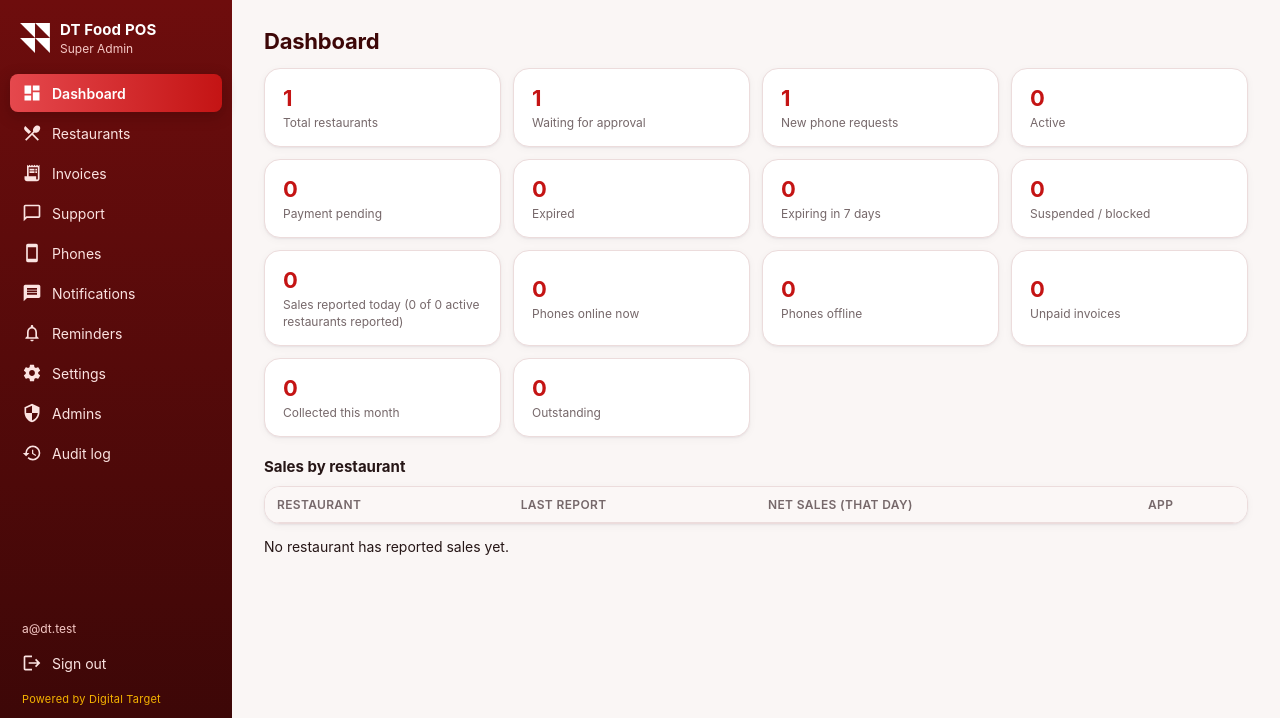
Scenario: panel › requires a message to suspend
Click the button "Restaurants" at (116,133), box 10,114 -> 222,152
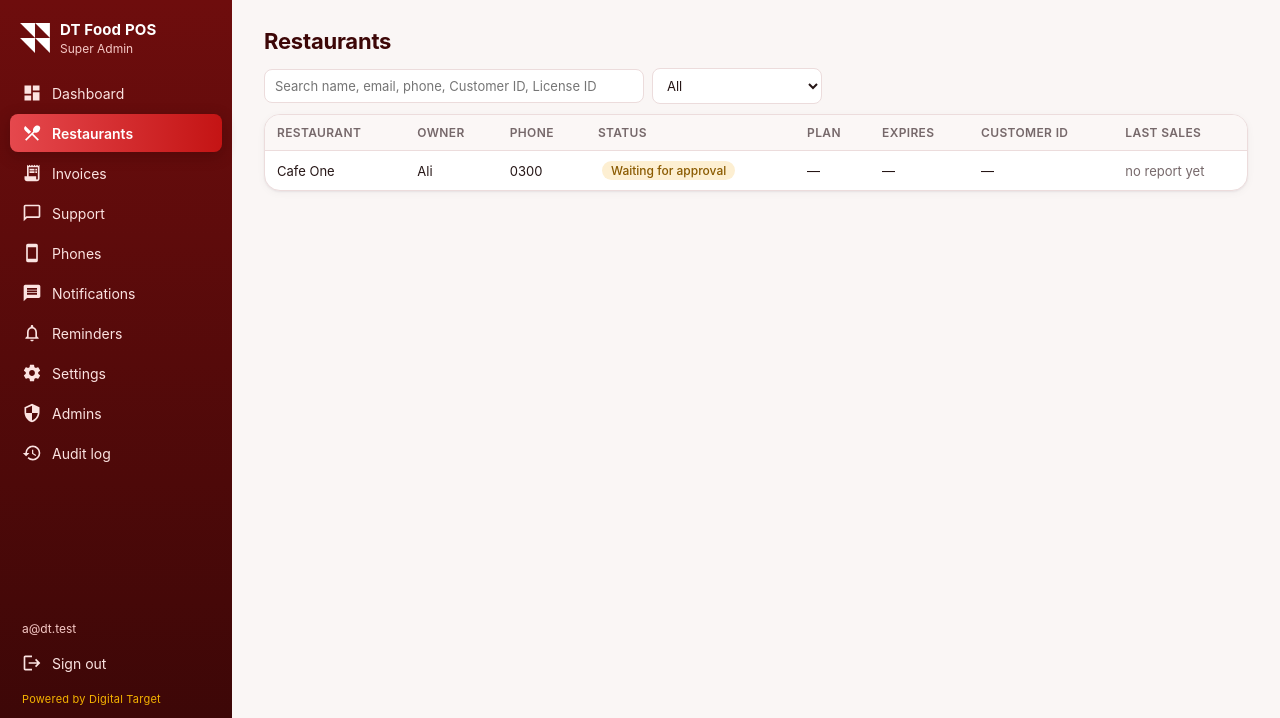
Click the text "Cafe One" at (335,170), box 265,151 -> 405,190
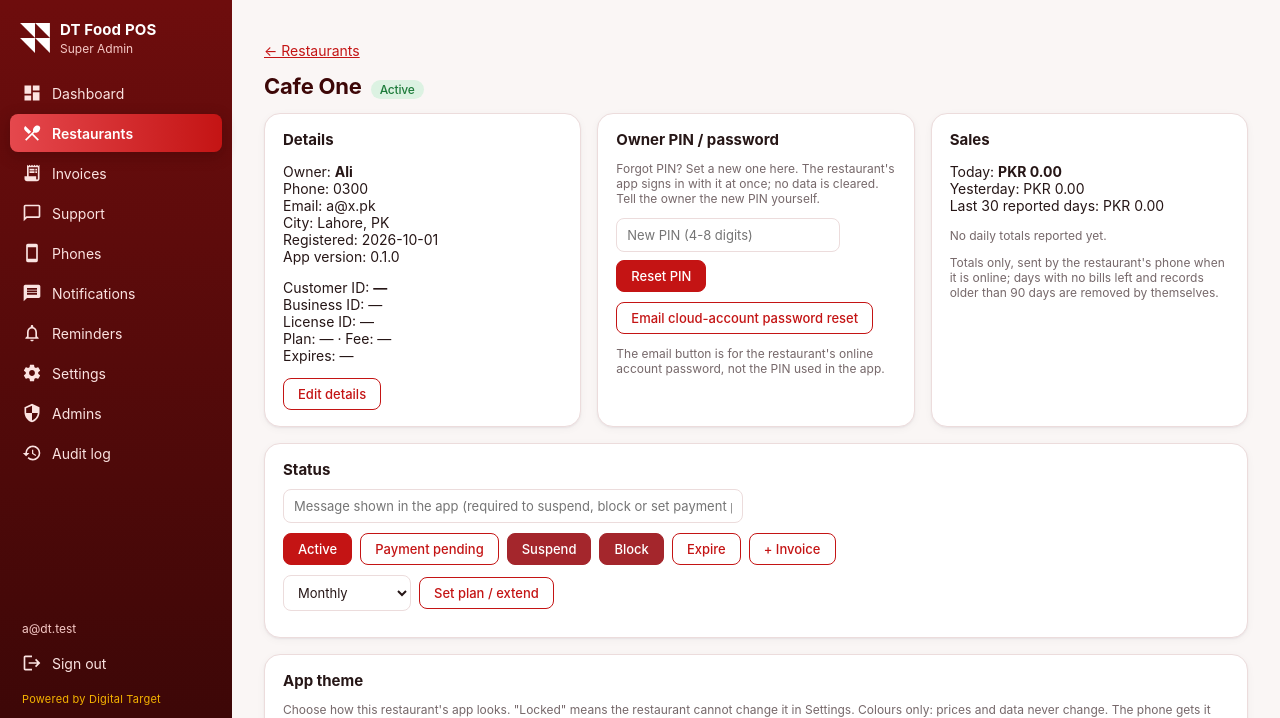
Click the button "Suspend" at (549,549), box 507,533 -> 592,565
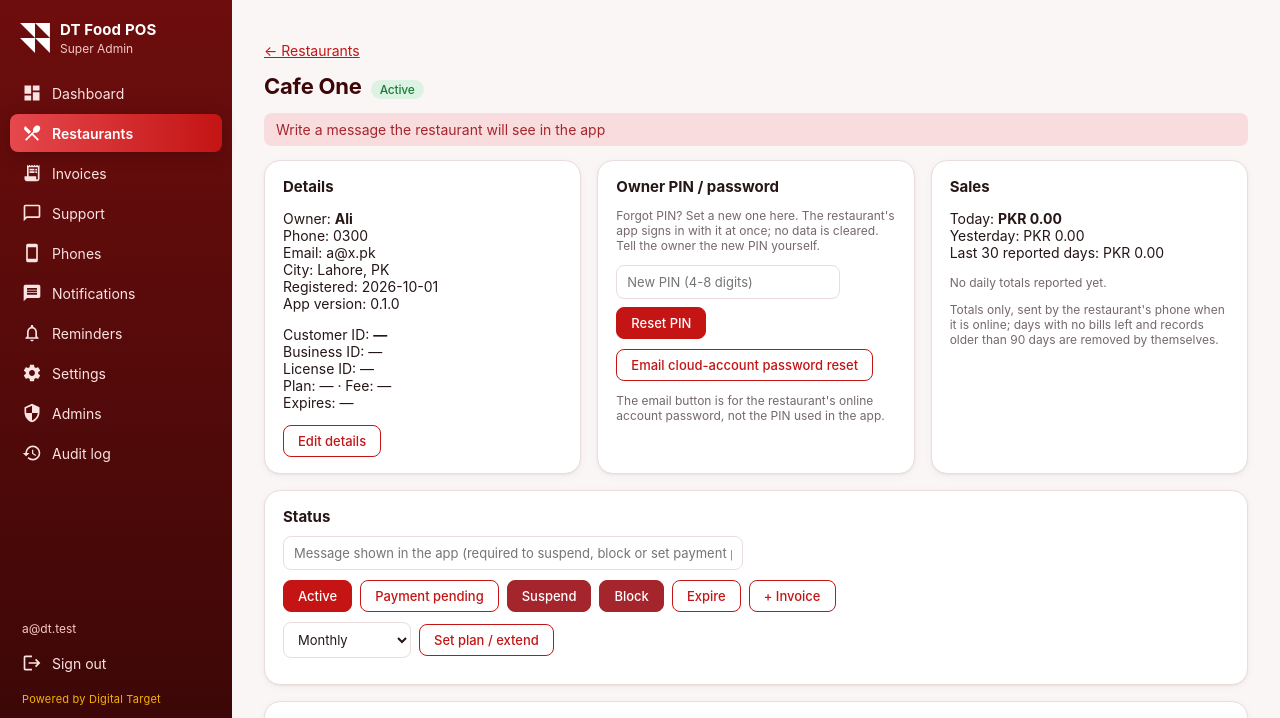
Result: the message shows "message" at 276,121 -> 605,138
